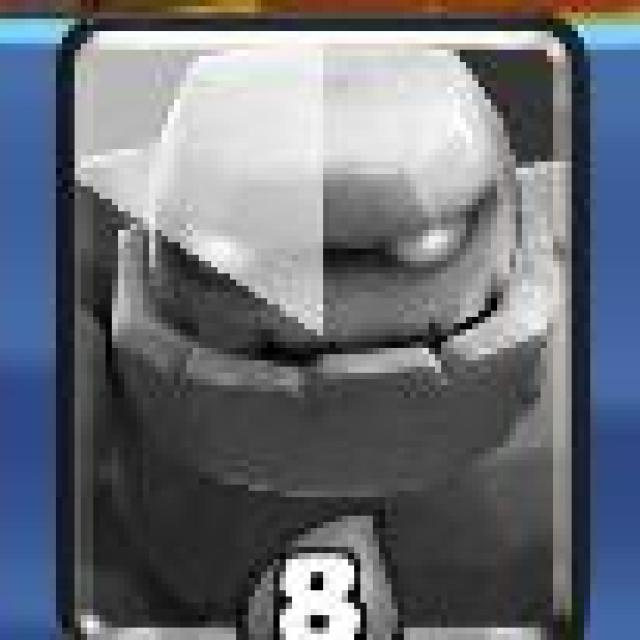Golem: (63, 17, 588, 640)
